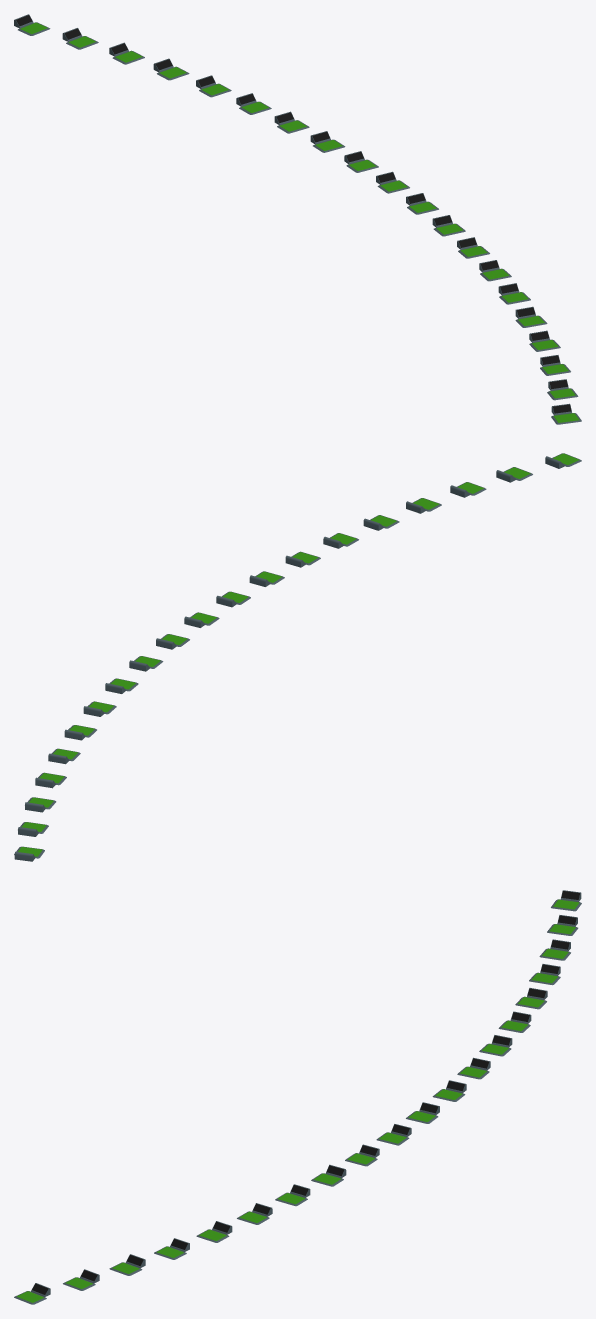
The model's file is Tee Off Panels.glb.
The picture shows the model from 3 angles, top to bottom: view 1: azimuth 30°, elevation 25°; view 2: azimuth 150°, elevation 25°; view 3: azimuth 330°, elevation 25°; orthographic projection.
Parts seen in each view (by area): view 1: Tee Off Panels; view 2: Tee Off Panels; view 3: Tee Off Panels.
Part boxes in pixels (x1,y1,x2,y2): Tee Off Panels: [14, 14, 581, 424]; Tee Off Panels: [14, 453, 581, 861]; Tee Off Panels: [14, 890, 581, 1304].
Size of what is drawn, in the model's own units: 23.71 by 1.18 by 169.
2 materials, 2 textured.
